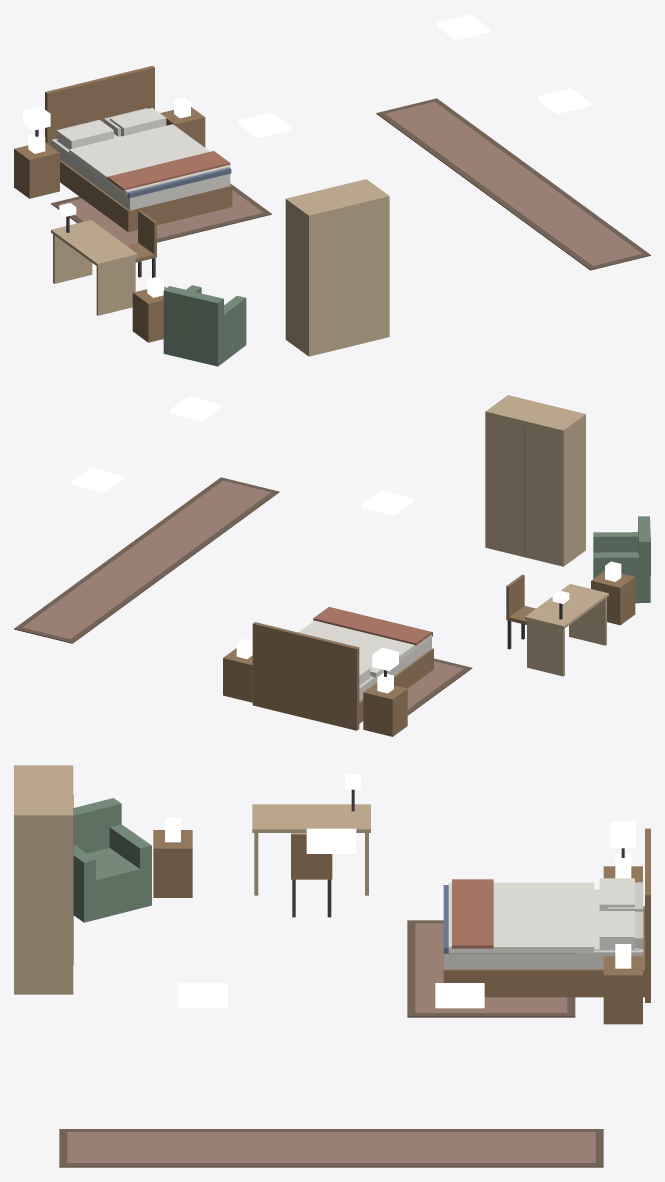
Rendered from fine-s1.glb.
3 renders of one model, top to bottom at view 1: azimuth 30°, elevation 25°; view 2: azimuth 150°, elevation 25°; view 3: azimuth 270°, elevation 25°, orthographic. The views are drawn at different scales.
Parts seen in each view (by area): view 1: soft-s1, dresser.000, bed-frame.000, lounge-chair.000, writing-desk.000, nightstand.000, side-table.000, nightstand.001, cafe-chair.000, ceiling-lamp.003, ceiling-lamp.004, ceiling-lamp.002; view 2: soft-s1, dresser.000, bed-frame.000, writing-desk.000, lounge-chair.000, nightstand.000, side-table.000, nightstand.001, cafe-chair.000, ceiling-lamp.004, ceiling-lamp.002, ceiling-lamp.003; view 3: soft-s1, dresser.000, bed-frame.000, lounge-chair.000, writing-desk.000, nightstand.001, side-table.000, cafe-chair.000, ceiling-lamp.004, ceiling-lamp.002, ceiling-lamp.003, nightstand.000.
Part boxes in pixels (x1,y1,x2,y2): soft-s1: [23, 98, 650, 270]; dresser.000: [285, 179, 389, 356]; bed-frame.000: [45, 65, 232, 232]; lounge-chair.000: [163, 285, 246, 366]; writing-desk.000: [51, 203, 137, 315]; nightstand.000: [14, 133, 59, 198]; side-table.000: [132, 276, 166, 342]; nightstand.001: [160, 97, 205, 147]; cafe-chair.000: [126, 210, 156, 277]; ceiling-lamp.003: [537, 88, 590, 114]; ceiling-lamp.004: [238, 112, 291, 137]; ceiling-lamp.002: [436, 14, 489, 40]; soft-s1: [14, 477, 472, 715]; dresser.000: [485, 395, 585, 566]; bed-frame.000: [252, 622, 433, 730]; writing-desk.000: [525, 584, 608, 676]; lounge-chair.000: [593, 516, 650, 603]; nightstand.000: [363, 673, 407, 736]; side-table.000: [591, 561, 635, 625]; nightstand.001: [223, 639, 252, 702]; cafe-chair.000: [506, 574, 535, 649]; ceiling-lamp.004: [361, 490, 412, 515]; ceiling-lamp.002: [72, 468, 123, 492]; ceiling-lamp.003: [170, 396, 221, 420]; soft-s1: [59, 821, 638, 1167]; dresser.000: [14, 765, 73, 994]; bed-frame.000: [443, 828, 650, 1002]; lounge-chair.000: [73, 798, 151, 922]; writing-desk.000: [252, 774, 370, 895]; nightstand.001: [603, 944, 642, 1024]; side-table.000: [153, 817, 192, 897]; cafe-chair.000: [291, 833, 332, 917]; ceiling-lamp.004: [306, 828, 356, 853]; ceiling-lamp.002: [435, 983, 484, 1008]; ceiling-lamp.003: [178, 983, 227, 1008]; nightstand.000: [603, 854, 642, 882].
Size of the model in its own units: 7.09 by 2 by 6.45.
